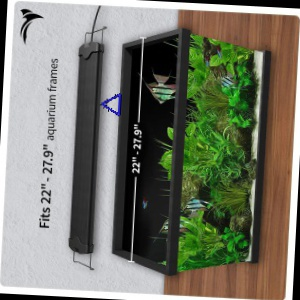triangle: (97, 89, 127, 118)
